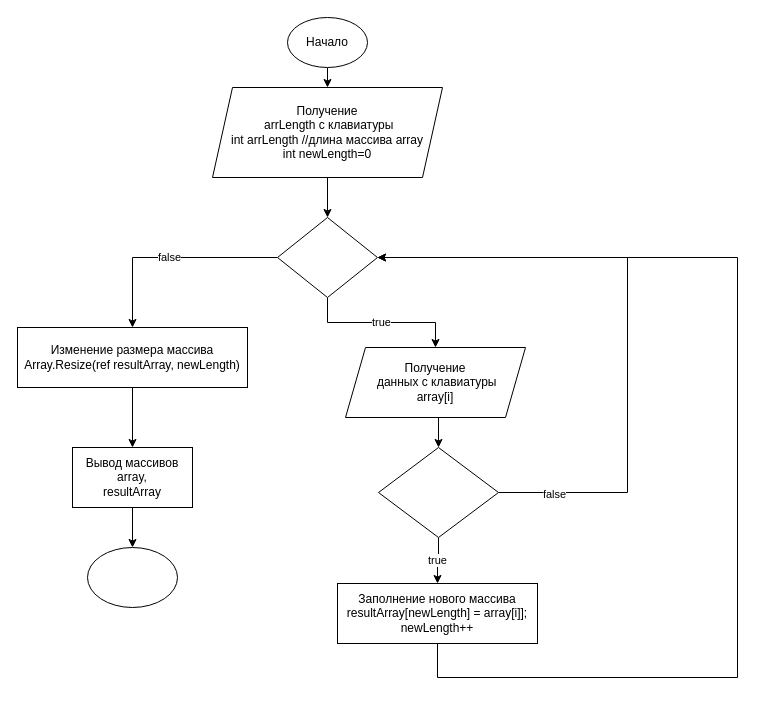
This 763x703 diagram has some shape labels left out. Each missing label, with the centre of its shape:
"array[i].Length <4" belongs at point 438,492.
"i<arrLength" belongs at point 327,257.
"Конец" belongs at point 132,577.
